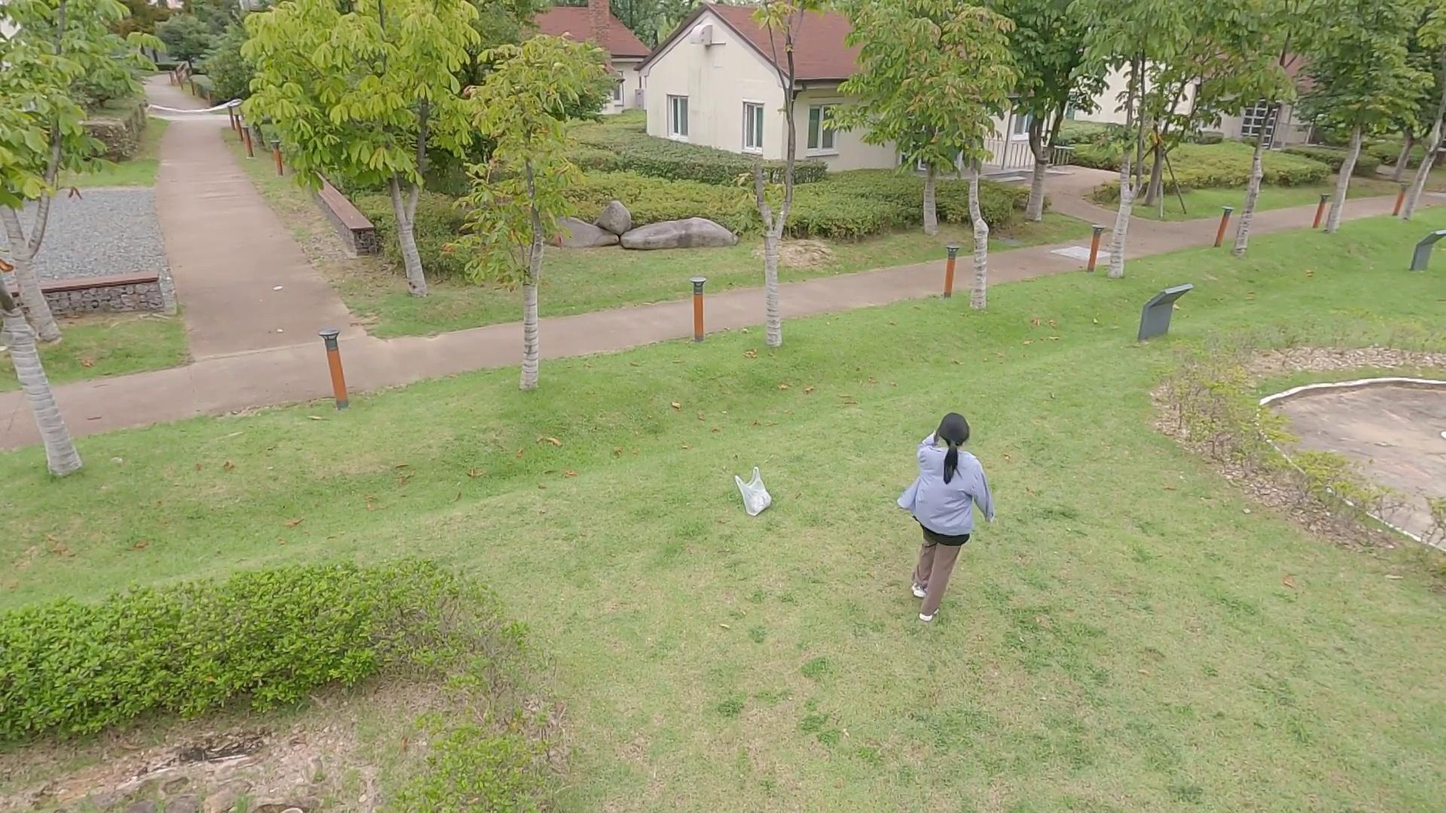person: (898, 411, 997, 625)
trash: (736, 467, 776, 518)
